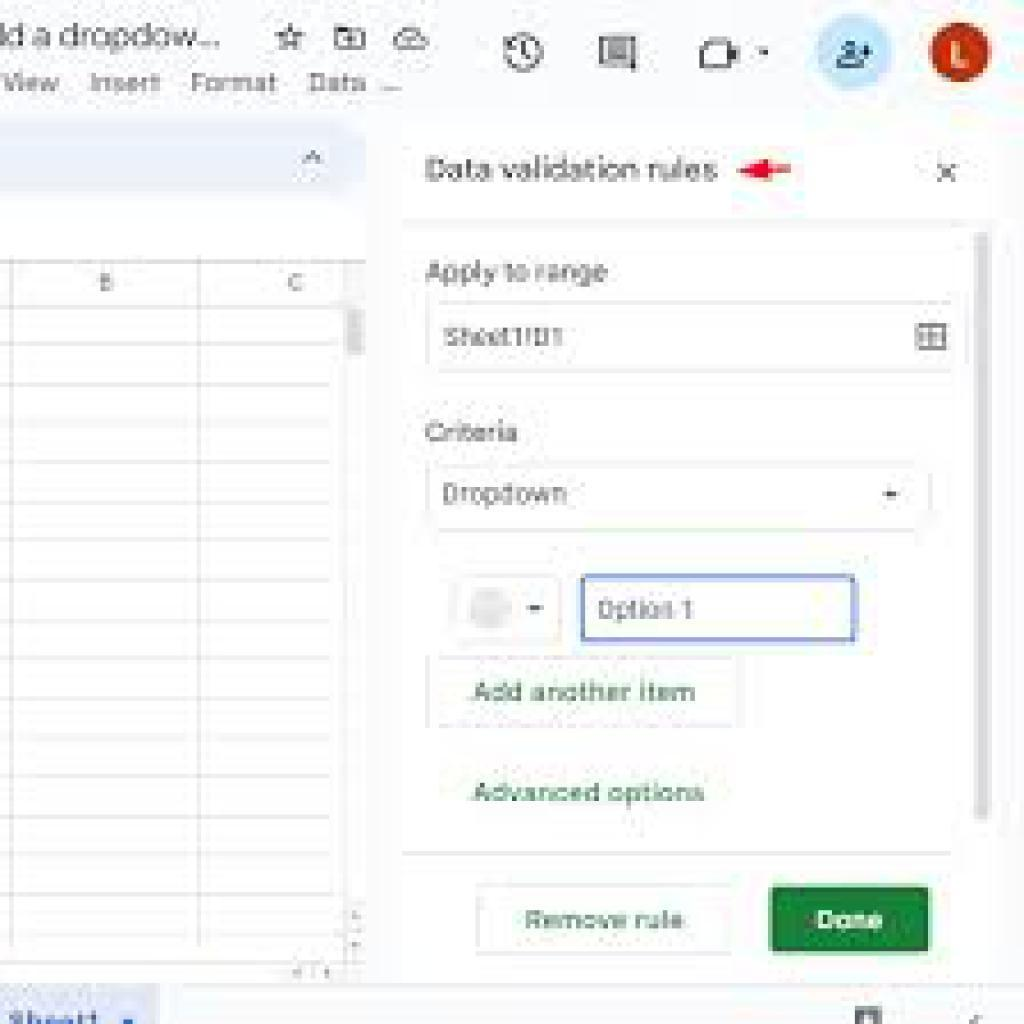button: (430, 655, 738, 728), (481, 884, 731, 959), (773, 885, 931, 950)
dropdown: (430, 465, 931, 532), (456, 581, 564, 636)
icon: (496, 26, 550, 75), (595, 27, 647, 76), (697, 32, 750, 76), (271, 24, 308, 56)
input: (430, 301, 966, 368), (582, 574, 858, 642)
label: (473, 776, 713, 813)
table: (6, 262, 336, 959)
